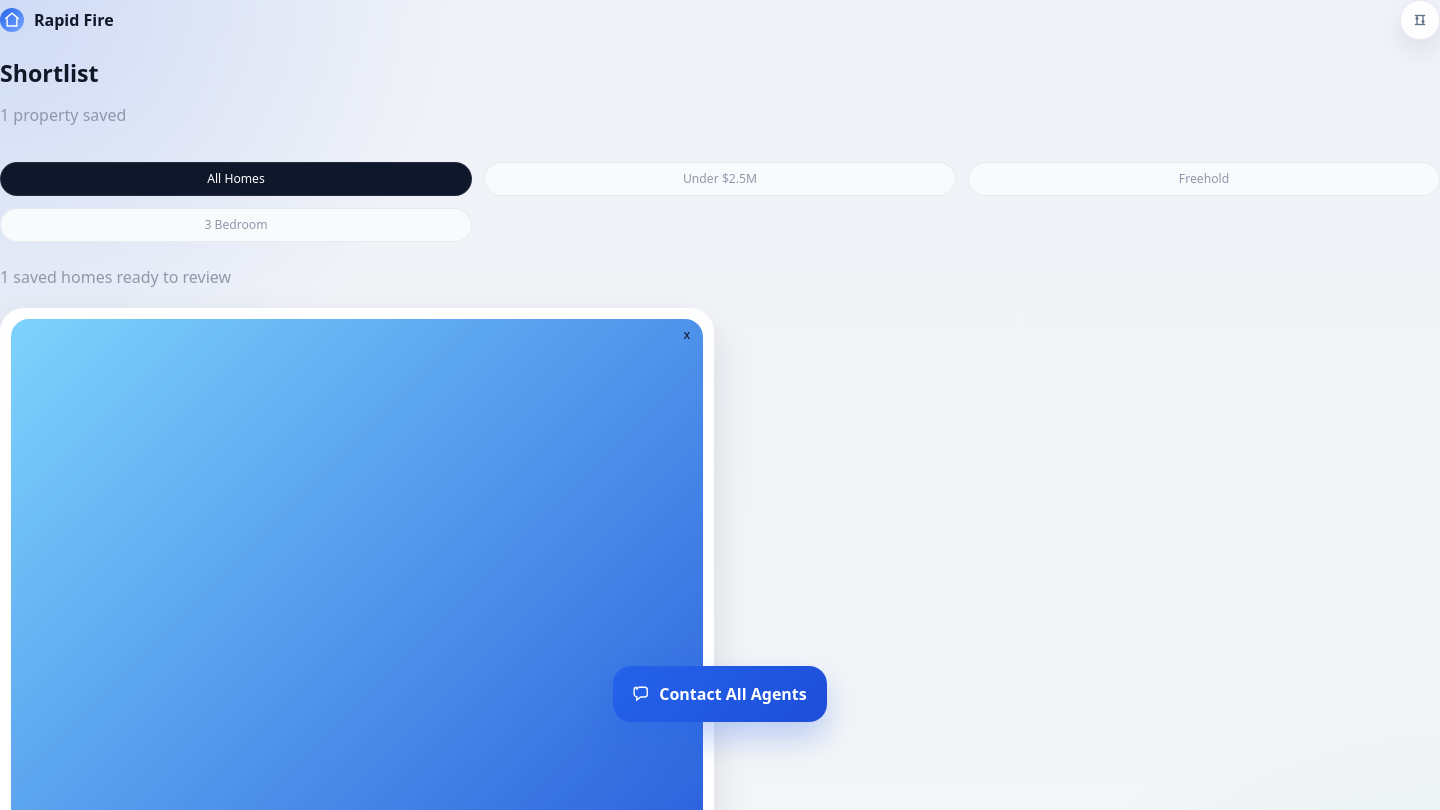
Test: ShortlistScreen › removes a property from the shortlist and shows the empty state when nothing remains
Expected: the text "1 property saved" is shown, [0, 104, 126, 126]
Click the button named "Remove Meyer Crest from shortlist".
click(687, 335)  # box [677, 325, 697, 345]
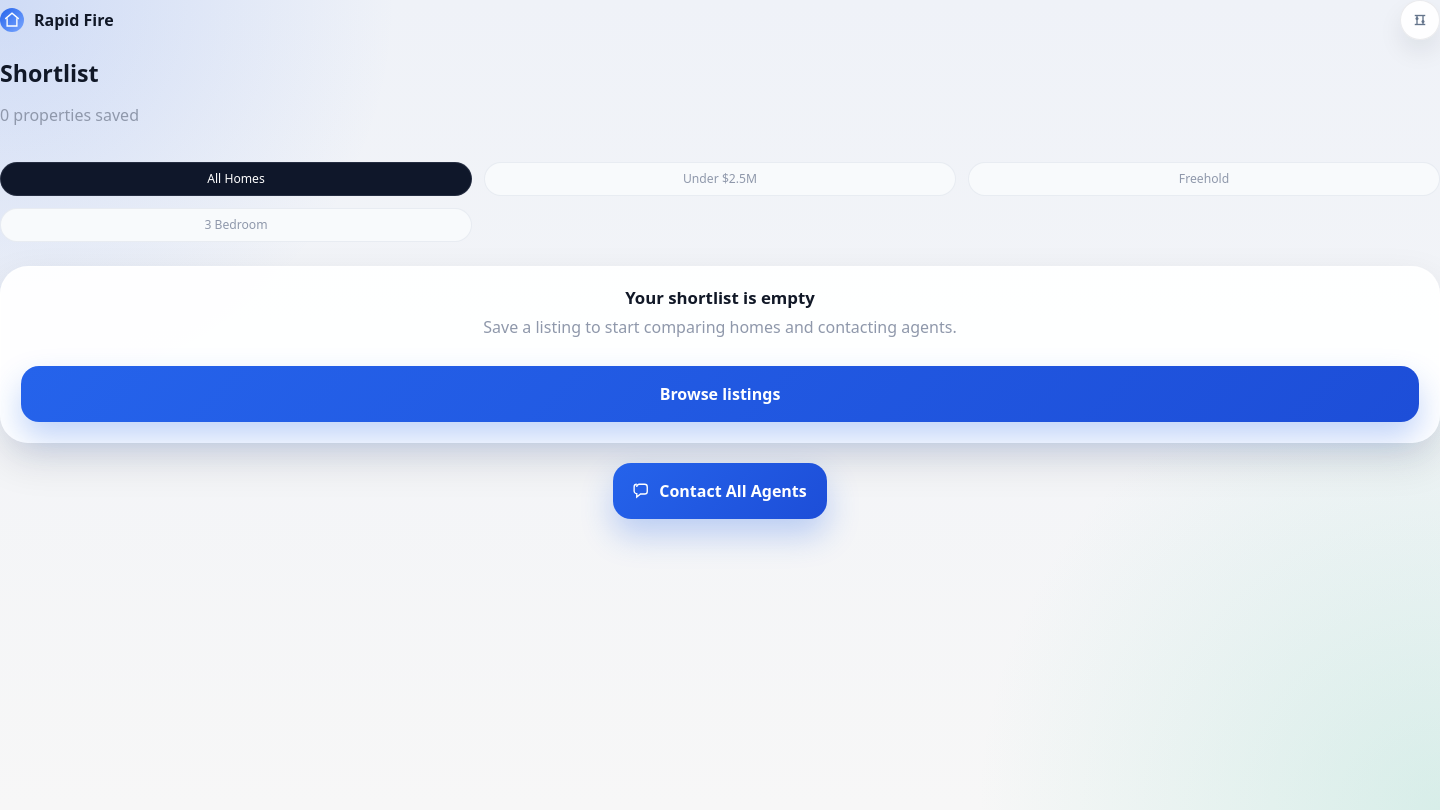
Now the text "0 properties saved" is shown, box [0, 104, 139, 126]
Now the heading "Your shortlist is empty" is shown, box [625, 286, 815, 309]
